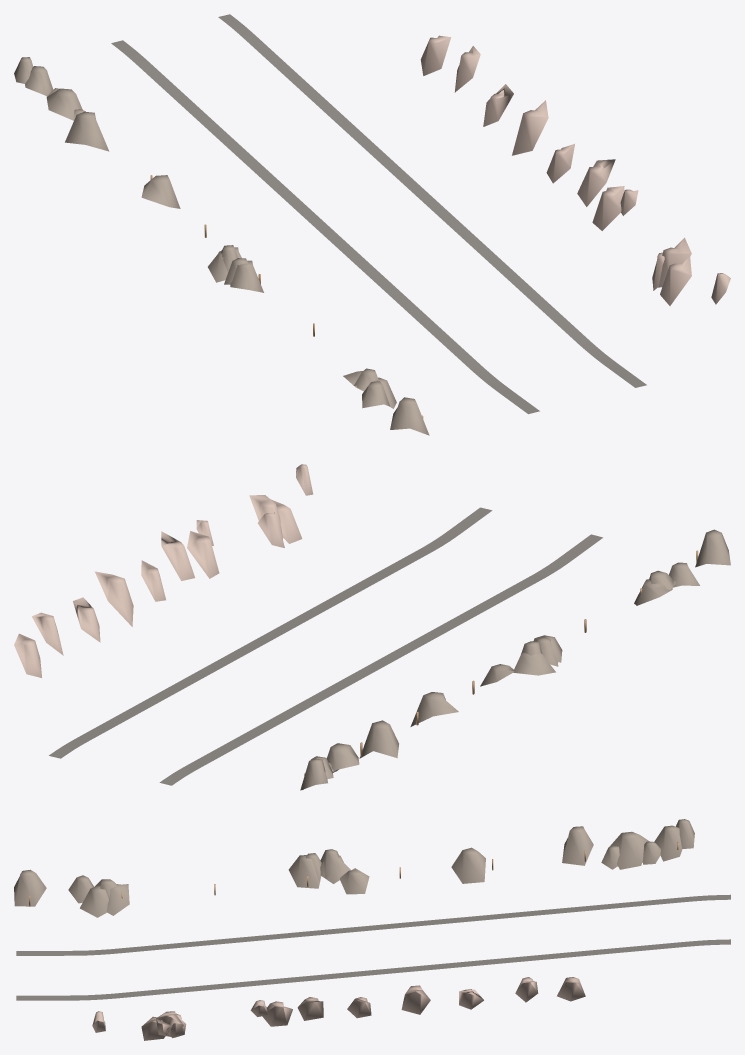
Rendered from pit_haul_ramp_detail1.glb.
The picture shows the model from 3 angles, top to bottom: view 1: azimuth 30°, elevation 25°; view 2: azimuth 150°, elevation 25°; view 3: azimuth 270°, elevation 25°; orthographic projection. The views are drawn at different scales.
Visible parts, largest first — view 1: pit_haul_ramp_detail1_mesh; view 2: pit_haul_ramp_detail1_mesh; view 3: pit_haul_ramp_detail1_mesh.
Boxes of the visible parts, x1,y1,x2,y2 form: pit_haul_ramp_detail1_mesh: (14,14,730,435); pit_haul_ramp_detail1_mesh: (14,464,730,790); pit_haul_ramp_detail1_mesh: (14,819,730,1040).
Bounding box in the file's own units: 29.18 × 7.15 × 54.18.
